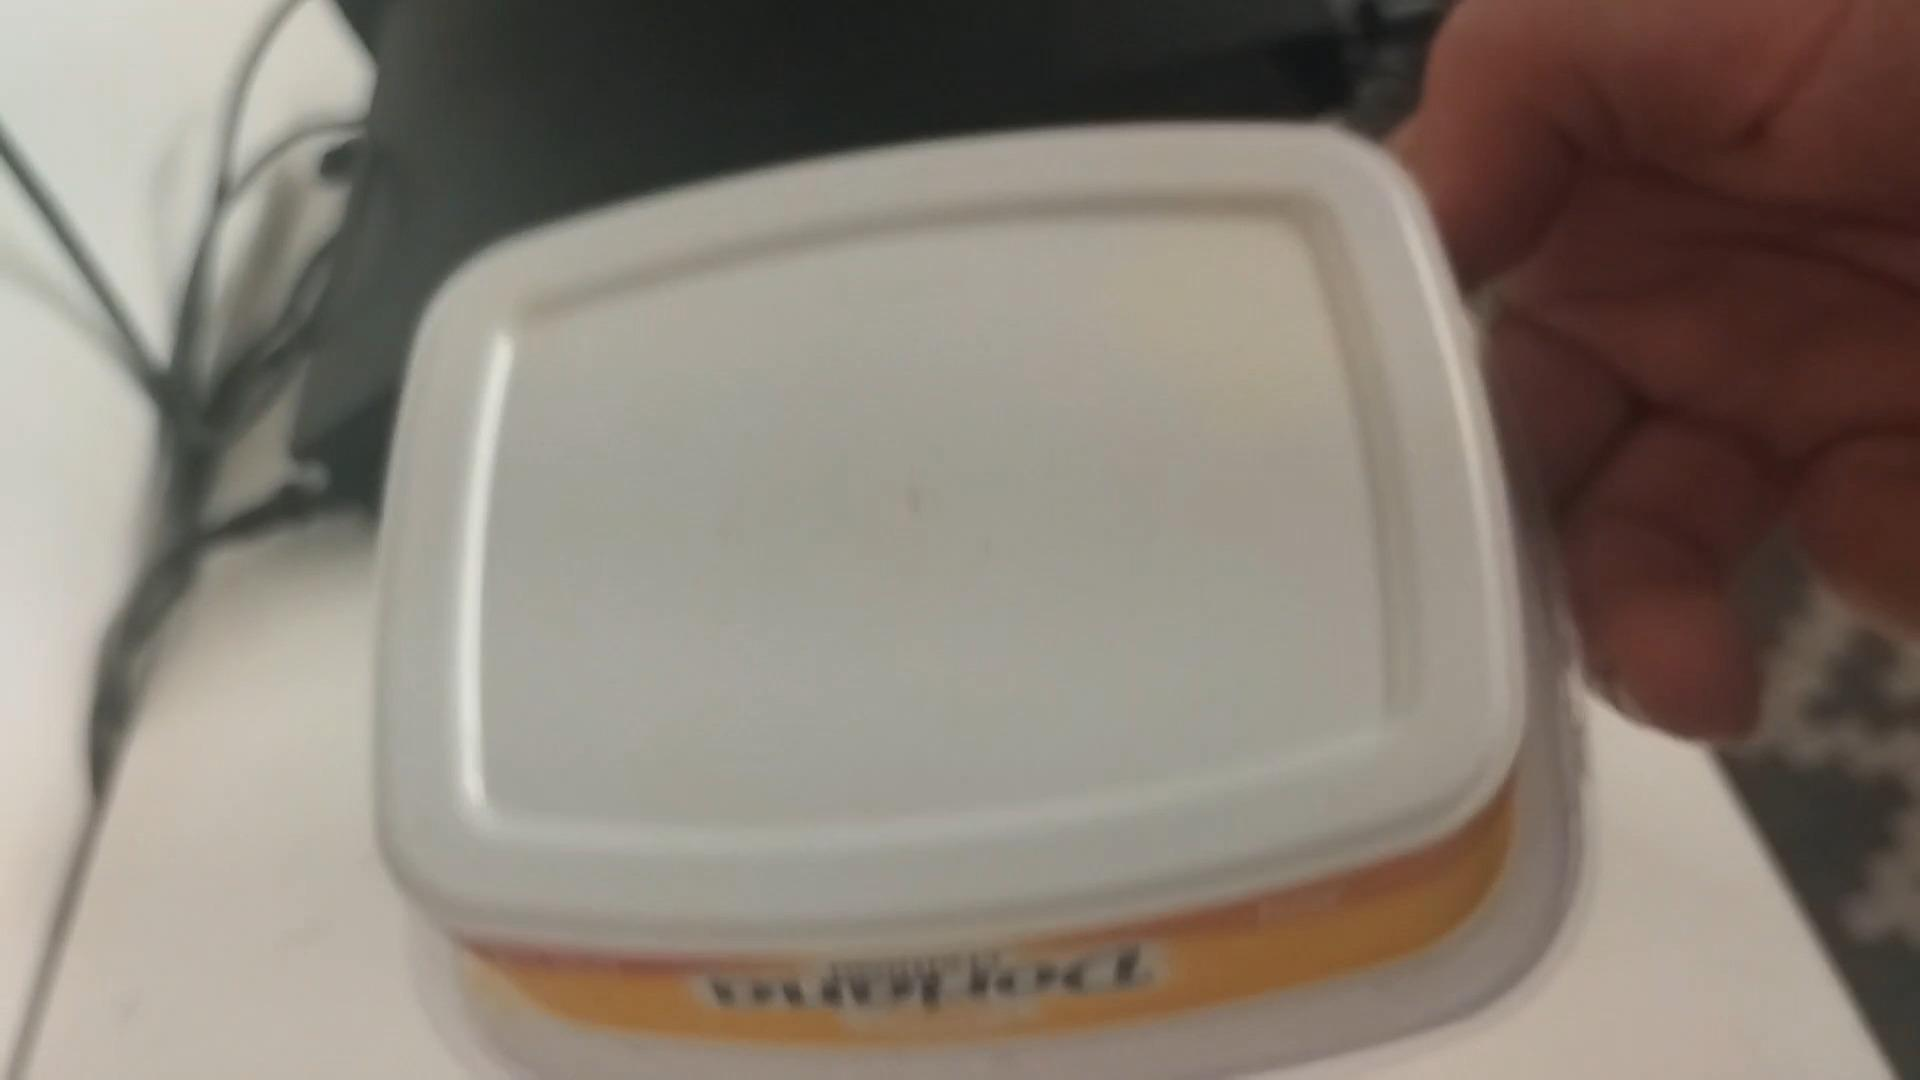butter: (369, 117, 1561, 1076)
